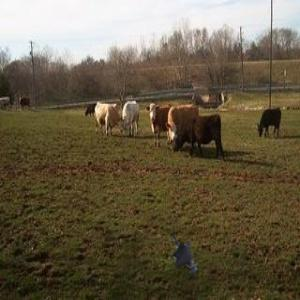drone: (150, 207, 232, 289)
